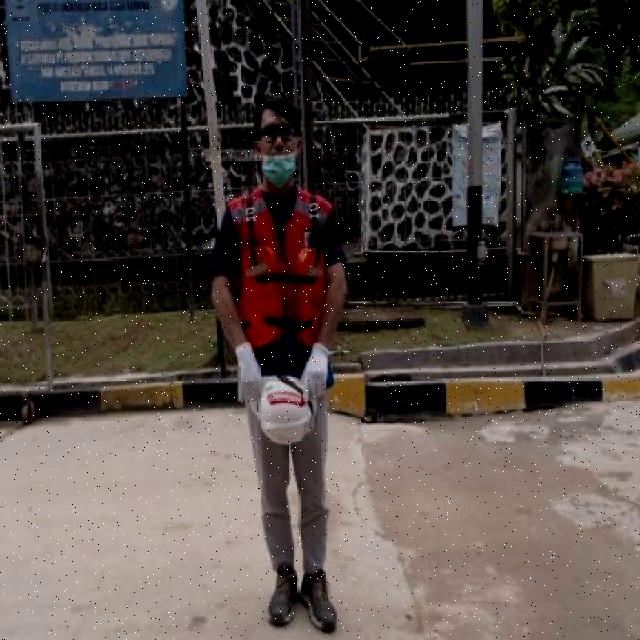Boots: (298, 568, 338, 632), (268, 562, 298, 630)
Gloves: (301, 340, 327, 405), (236, 342, 261, 404)
Helmet: (252, 374, 316, 448)
Mask: (233, 192, 324, 346)
